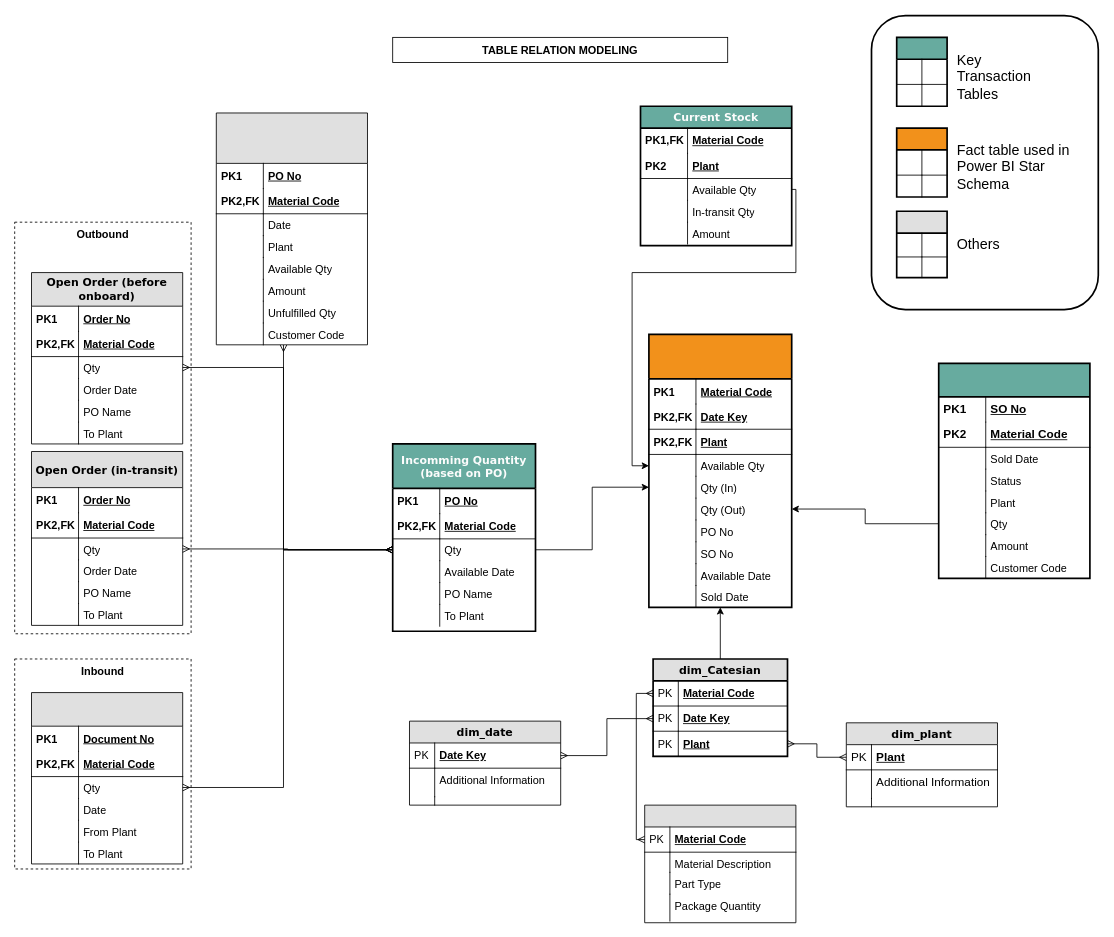
Image size: 1114x937. Some labels were removed from this diagram. The shapes that lost their labels are listed below. From the top down, each one's box as (x1, y1, x2, y2) in pixels, then its label:
(215, 112, 368, 345): Purchase Orders by Vendor
(648, 333, 792, 608): Closing_Inventory
(937, 362, 1090, 579): Sales Orders by Customer
(31, 692, 183, 864): Stock Transfer (Inbound)
(644, 804, 796, 923): dim_material
